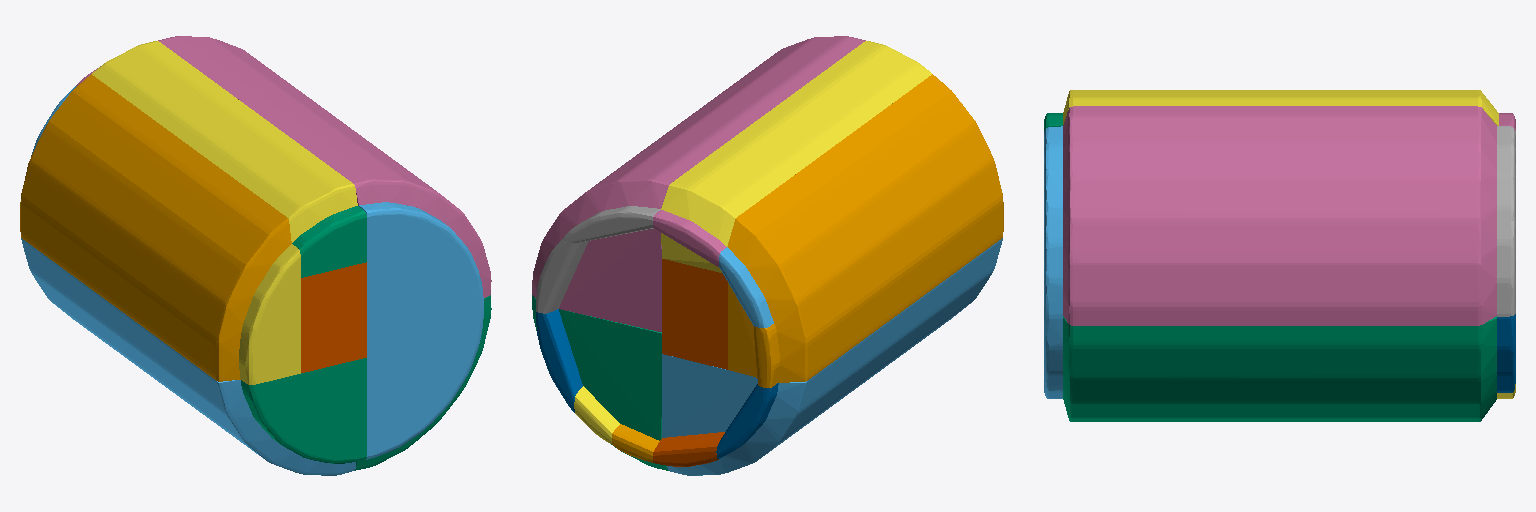
The robot description file, URDF, robot "root":
<robot name="root">
  <link name="link_convex_piece_018.obj">
    <inertial>
      <origin xyz="0 0 0" rpy="0 0 0"/>
    </inertial>
    <visual>
      <origin xyz="0 0 0" rpy="0 0 0"/>
      <geometry>
        <mesh filename="meshes/convex_piece_018.obj" scale="1.0 1.0 1.0"/>
      </geometry>
    </visual>
    <collision>
      <origin xyz="0 0 0" rpy="0 0 0"/>
      <geometry>
        <mesh filename="meshes/convex_piece_018.obj" scale="1.0 1.0 1.0"/>
      </geometry>
    </collision>
  </link>
  <link name="link_convex_piece_012.obj">
    <inertial>
      <origin xyz="0 0 0" rpy="0 0 0"/>
    </inertial>
    <visual>
      <origin xyz="0 0 0" rpy="0 0 0"/>
      <geometry>
        <mesh filename="meshes/convex_piece_012.obj" scale="1.0 1.0 1.0"/>
      </geometry>
    </visual>
    <collision>
      <origin xyz="0 0 0" rpy="0 0 0"/>
      <geometry>
        <mesh filename="meshes/convex_piece_012.obj" scale="1.0 1.0 1.0"/>
      </geometry>
    </collision>
  </link>
  <joint name="link_convex_piece_012.obj_joint" type="fixed">
    <origin xyz="0 0 0" rpy="0 0 0"/>
    <parent link="link_convex_piece_018.obj"/>
    <child link="link_convex_piece_012.obj"/>
  </joint>
  <link name="link_convex_piece_019.obj">
    <inertial>
      <origin xyz="0 0 0" rpy="0 0 0"/>
    </inertial>
    <visual>
      <origin xyz="0 0 0" rpy="0 0 0"/>
      <geometry>
        <mesh filename="meshes/convex_piece_019.obj" scale="1.0 1.0 1.0"/>
      </geometry>
    </visual>
    <collision>
      <origin xyz="0 0 0" rpy="0 0 0"/>
      <geometry>
        <mesh filename="meshes/convex_piece_019.obj" scale="1.0 1.0 1.0"/>
      </geometry>
    </collision>
  </link>
  <joint name="link_convex_piece_019.obj_joint" type="fixed">
    <origin xyz="0 0 0" rpy="0 0 0"/>
    <parent link="link_convex_piece_012.obj"/>
    <child link="link_convex_piece_019.obj"/>
  </joint>
  <link name="link_convex_piece_014.obj">
    <inertial>
      <origin xyz="0 0 0" rpy="0 0 0"/>
    </inertial>
    <visual>
      <origin xyz="0 0 0" rpy="0 0 0"/>
      <geometry>
        <mesh filename="meshes/convex_piece_014.obj" scale="1.0 1.0 1.0"/>
      </geometry>
    </visual>
    <collision>
      <origin xyz="0 0 0" rpy="0 0 0"/>
      <geometry>
        <mesh filename="meshes/convex_piece_014.obj" scale="1.0 1.0 1.0"/>
      </geometry>
    </collision>
  </link>
  <joint name="link_convex_piece_014.obj_joint" type="fixed">
    <origin xyz="0 0 0" rpy="0 0 0"/>
    <parent link="link_convex_piece_019.obj"/>
    <child link="link_convex_piece_014.obj"/>
  </joint>
  <link name="link_convex_piece_004.obj">
    <inertial>
      <origin xyz="0 0 0" rpy="0 0 0"/>
    </inertial>
    <visual>
      <origin xyz="0 0 0" rpy="0 0 0"/>
      <geometry>
        <mesh filename="meshes/convex_piece_004.obj" scale="1.0 1.0 1.0"/>
      </geometry>
    </visual>
    <collision>
      <origin xyz="0 0 0" rpy="0 0 0"/>
      <geometry>
        <mesh filename="meshes/convex_piece_004.obj" scale="1.0 1.0 1.0"/>
      </geometry>
    </collision>
  </link>
  <joint name="link_convex_piece_004.obj_joint" type="fixed">
    <origin xyz="0 0 0" rpy="0 0 0"/>
    <parent link="link_convex_piece_014.obj"/>
    <child link="link_convex_piece_004.obj"/>
  </joint>
  <link name="link_convex_piece_001.obj">
    <inertial>
      <origin xyz="0 0 0" rpy="0 0 0"/>
    </inertial>
    <visual>
      <origin xyz="0 0 0" rpy="0 0 0"/>
      <geometry>
        <mesh filename="meshes/convex_piece_001.obj" scale="1.0 1.0 1.0"/>
      </geometry>
    </visual>
    <collision>
      <origin xyz="0 0 0" rpy="0 0 0"/>
      <geometry>
        <mesh filename="meshes/convex_piece_001.obj" scale="1.0 1.0 1.0"/>
      </geometry>
    </collision>
  </link>
  <joint name="link_convex_piece_001.obj_joint" type="fixed">
    <origin xyz="0 0 0" rpy="0 0 0"/>
    <parent link="link_convex_piece_004.obj"/>
    <child link="link_convex_piece_001.obj"/>
  </joint>
  <link name="link_convex_piece_015.obj">
    <inertial>
      <origin xyz="0 0 0" rpy="0 0 0"/>
    </inertial>
    <visual>
      <origin xyz="0 0 0" rpy="0 0 0"/>
      <geometry>
        <mesh filename="meshes/convex_piece_015.obj" scale="1.0 1.0 1.0"/>
      </geometry>
    </visual>
    <collision>
      <origin xyz="0 0 0" rpy="0 0 0"/>
      <geometry>
        <mesh filename="meshes/convex_piece_015.obj" scale="1.0 1.0 1.0"/>
      </geometry>
    </collision>
  </link>
  <joint name="link_convex_piece_015.obj_joint" type="fixed">
    <origin xyz="0 0 0" rpy="0 0 0"/>
    <parent link="link_convex_piece_001.obj"/>
    <child link="link_convex_piece_015.obj"/>
  </joint>
  <link name="link_convex_piece_005.obj">
    <inertial>
      <origin xyz="0 0 0" rpy="0 0 0"/>
    </inertial>
    <visual>
      <origin xyz="0 0 0" rpy="0 0 0"/>
      <geometry>
        <mesh filename="meshes/convex_piece_005.obj" scale="1.0 1.0 1.0"/>
      </geometry>
    </visual>
    <collision>
      <origin xyz="0 0 0" rpy="0 0 0"/>
      <geometry>
        <mesh filename="meshes/convex_piece_005.obj" scale="1.0 1.0 1.0"/>
      </geometry>
    </collision>
  </link>
  <joint name="link_convex_piece_005.obj_joint" type="fixed">
    <origin xyz="0 0 0" rpy="0 0 0"/>
    <parent link="link_convex_piece_015.obj"/>
    <child link="link_convex_piece_005.obj"/>
  </joint>
  <link name="link_convex_piece_013.obj">
    <inertial>
      <origin xyz="0 0 0" rpy="0 0 0"/>
    </inertial>
    <visual>
      <origin xyz="0 0 0" rpy="0 0 0"/>
      <geometry>
        <mesh filename="meshes/convex_piece_013.obj" scale="1.0 1.0 1.0"/>
      </geometry>
    </visual>
    <collision>
      <origin xyz="0 0 0" rpy="0 0 0"/>
      <geometry>
        <mesh filename="meshes/convex_piece_013.obj" scale="1.0 1.0 1.0"/>
      </geometry>
    </collision>
  </link>
  <joint name="link_convex_piece_013.obj_joint" type="fixed">
    <origin xyz="0 0 0" rpy="0 0 0"/>
    <parent link="link_convex_piece_005.obj"/>
    <child link="link_convex_piece_013.obj"/>
  </joint>
  <link name="link_convex_piece_002.obj">
    <inertial>
      <origin xyz="0 0 0" rpy="0 0 0"/>
    </inertial>
    <visual>
      <origin xyz="0 0 0" rpy="0 0 0"/>
      <geometry>
        <mesh filename="meshes/convex_piece_002.obj" scale="1.0 1.0 1.0"/>
      </geometry>
    </visual>
    <collision>
      <origin xyz="0 0 0" rpy="0 0 0"/>
      <geometry>
        <mesh filename="meshes/convex_piece_002.obj" scale="1.0 1.0 1.0"/>
      </geometry>
    </collision>
  </link>
  <joint name="link_convex_piece_002.obj_joint" type="fixed">
    <origin xyz="0 0 0" rpy="0 0 0"/>
    <parent link="link_convex_piece_013.obj"/>
    <child link="link_convex_piece_002.obj"/>
  </joint>
  <link name="link_convex_piece_010.obj">
    <inertial>
      <origin xyz="0 0 0" rpy="0 0 0"/>
    </inertial>
    <visual>
      <origin xyz="0 0 0" rpy="0 0 0"/>
      <geometry>
        <mesh filename="meshes/convex_piece_010.obj" scale="1.0 1.0 1.0"/>
      </geometry>
    </visual>
    <collision>
      <origin xyz="0 0 0" rpy="0 0 0"/>
      <geometry>
        <mesh filename="meshes/convex_piece_010.obj" scale="1.0 1.0 1.0"/>
      </geometry>
    </collision>
  </link>
  <joint name="link_convex_piece_010.obj_joint" type="fixed">
    <origin xyz="0 0 0" rpy="0 0 0"/>
    <parent link="link_convex_piece_002.obj"/>
    <child link="link_convex_piece_010.obj"/>
  </joint>
  <link name="link_convex_piece_006.obj">
    <inertial>
      <origin xyz="0 0 0" rpy="0 0 0"/>
    </inertial>
    <visual>
      <origin xyz="0 0 0" rpy="0 0 0"/>
      <geometry>
        <mesh filename="meshes/convex_piece_006.obj" scale="1.0 1.0 1.0"/>
      </geometry>
    </visual>
    <collision>
      <origin xyz="0 0 0" rpy="0 0 0"/>
      <geometry>
        <mesh filename="meshes/convex_piece_006.obj" scale="1.0 1.0 1.0"/>
      </geometry>
    </collision>
  </link>
  <joint name="link_convex_piece_006.obj_joint" type="fixed">
    <origin xyz="0 0 0" rpy="0 0 0"/>
    <parent link="link_convex_piece_010.obj"/>
    <child link="link_convex_piece_006.obj"/>
  </joint>
  <link name="link_convex_piece_003.obj">
    <inertial>
      <origin xyz="0 0 0" rpy="0 0 0"/>
    </inertial>
    <visual>
      <origin xyz="0 0 0" rpy="0 0 0"/>
      <geometry>
        <mesh filename="meshes/convex_piece_003.obj" scale="1.0 1.0 1.0"/>
      </geometry>
    </visual>
    <collision>
      <origin xyz="0 0 0" rpy="0 0 0"/>
      <geometry>
        <mesh filename="meshes/convex_piece_003.obj" scale="1.0 1.0 1.0"/>
      </geometry>
    </collision>
  </link>
  <joint name="link_convex_piece_003.obj_joint" type="fixed">
    <origin xyz="0 0 0" rpy="0 0 0"/>
    <parent link="link_convex_piece_006.obj"/>
    <child link="link_convex_piece_003.obj"/>
  </joint>
  <link name="link_convex_piece_008.obj">
    <inertial>
      <origin xyz="0 0 0" rpy="0 0 0"/>
    </inertial>
    <visual>
      <origin xyz="0 0 0" rpy="0 0 0"/>
      <geometry>
        <mesh filename="meshes/convex_piece_008.obj" scale="1.0 1.0 1.0"/>
      </geometry>
    </visual>
    <collision>
      <origin xyz="0 0 0" rpy="0 0 0"/>
      <geometry>
        <mesh filename="meshes/convex_piece_008.obj" scale="1.0 1.0 1.0"/>
      </geometry>
    </collision>
  </link>
  <joint name="link_convex_piece_008.obj_joint" type="fixed">
    <origin xyz="0 0 0" rpy="0 0 0"/>
    <parent link="link_convex_piece_003.obj"/>
    <child link="link_convex_piece_008.obj"/>
  </joint>
  <link name="link_convex_piece_011.obj">
    <inertial>
      <origin xyz="0 0 0" rpy="0 0 0"/>
    </inertial>
    <visual>
      <origin xyz="0 0 0" rpy="0 0 0"/>
      <geometry>
        <mesh filename="meshes/convex_piece_011.obj" scale="1.0 1.0 1.0"/>
      </geometry>
    </visual>
    <collision>
      <origin xyz="0 0 0" rpy="0 0 0"/>
      <geometry>
        <mesh filename="meshes/convex_piece_011.obj" scale="1.0 1.0 1.0"/>
      </geometry>
    </collision>
  </link>
  <joint name="link_convex_piece_011.obj_joint" type="fixed">
    <origin xyz="0 0 0" rpy="0 0 0"/>
    <parent link="link_convex_piece_008.obj"/>
    <child link="link_convex_piece_011.obj"/>
  </joint>
  <link name="link_convex_piece_000.obj">
    <inertial>
      <origin xyz="0 0 0" rpy="0 0 0"/>
    </inertial>
    <visual>
      <origin xyz="0 0 0" rpy="0 0 0"/>
      <geometry>
        <mesh filename="meshes/convex_piece_000.obj" scale="1.0 1.0 1.0"/>
      </geometry>
    </visual>
    <collision>
      <origin xyz="0 0 0" rpy="0 0 0"/>
      <geometry>
        <mesh filename="meshes/convex_piece_000.obj" scale="1.0 1.0 1.0"/>
      </geometry>
    </collision>
  </link>
  <joint name="link_convex_piece_000.obj_joint" type="fixed">
    <origin xyz="0 0 0" rpy="0 0 0"/>
    <parent link="link_convex_piece_011.obj"/>
    <child link="link_convex_piece_000.obj"/>
  </joint>
  <link name="link_convex_piece_016.obj">
    <inertial>
      <origin xyz="0 0 0" rpy="0 0 0"/>
    </inertial>
    <visual>
      <origin xyz="0 0 0" rpy="0 0 0"/>
      <geometry>
        <mesh filename="meshes/convex_piece_016.obj" scale="1.0 1.0 1.0"/>
      </geometry>
    </visual>
    <collision>
      <origin xyz="0 0 0" rpy="0 0 0"/>
      <geometry>
        <mesh filename="meshes/convex_piece_016.obj" scale="1.0 1.0 1.0"/>
      </geometry>
    </collision>
  </link>
  <joint name="link_convex_piece_016.obj_joint" type="fixed">
    <origin xyz="0 0 0" rpy="0 0 0"/>
    <parent link="link_convex_piece_000.obj"/>
    <child link="link_convex_piece_016.obj"/>
  </joint>
  <link name="link_convex_piece_009.obj">
    <inertial>
      <origin xyz="0 0 0" rpy="0 0 0"/>
    </inertial>
    <visual>
      <origin xyz="0 0 0" rpy="0 0 0"/>
      <geometry>
        <mesh filename="meshes/convex_piece_009.obj" scale="1.0 1.0 1.0"/>
      </geometry>
    </visual>
    <collision>
      <origin xyz="0 0 0" rpy="0 0 0"/>
      <geometry>
        <mesh filename="meshes/convex_piece_009.obj" scale="1.0 1.0 1.0"/>
      </geometry>
    </collision>
  </link>
  <joint name="link_convex_piece_009.obj_joint" type="fixed">
    <origin xyz="0 0 0" rpy="0 0 0"/>
    <parent link="link_convex_piece_016.obj"/>
    <child link="link_convex_piece_009.obj"/>
  </joint>
  <link name="link_convex_piece_007.obj">
    <inertial>
      <origin xyz="0 0 0" rpy="0 0 0"/>
    </inertial>
    <visual>
      <origin xyz="0 0 0" rpy="0 0 0"/>
      <geometry>
        <mesh filename="meshes/convex_piece_007.obj" scale="1.0 1.0 1.0"/>
      </geometry>
    </visual>
    <collision>
      <origin xyz="0 0 0" rpy="0 0 0"/>
      <geometry>
        <mesh filename="meshes/convex_piece_007.obj" scale="1.0 1.0 1.0"/>
      </geometry>
    </collision>
  </link>
  <joint name="link_convex_piece_007.obj_joint" type="fixed">
    <origin xyz="0 0 0" rpy="0 0 0"/>
    <parent link="link_convex_piece_009.obj"/>
    <child link="link_convex_piece_007.obj"/>
  </joint>
  <link name="link_convex_piece_017.obj">
    <inertial>
      <origin xyz="0 0 0" rpy="0 0 0"/>
    </inertial>
    <visual>
      <origin xyz="0 0 0" rpy="0 0 0"/>
      <geometry>
        <mesh filename="meshes/convex_piece_017.obj" scale="1.0 1.0 1.0"/>
      </geometry>
    </visual>
    <collision>
      <origin xyz="0 0 0" rpy="0 0 0"/>
      <geometry>
        <mesh filename="meshes/convex_piece_017.obj" scale="1.0 1.0 1.0"/>
      </geometry>
    </collision>
  </link>
  <joint name="link_convex_piece_017.obj_joint" type="fixed">
    <origin xyz="0 0 0" rpy="0 0 0"/>
    <parent link="link_convex_piece_007.obj"/>
    <child link="link_convex_piece_017.obj"/>
  </joint>
</robot>

--- Render facts (derived) ---
3 views of the same robot in one strip: view 1: azimuth 30°, elevation 25°; view 2: azimuth 150°, elevation 25°; view 3: azimuth 270°, elevation 25° (orthographic).
Robot: root — 20 links, 19 joints (19 fixed); root link link_convex_piece_018.obj; default pose: all joints at 0.
Links seen in each view (by area): view 1: link_convex_piece_018.obj, link_convex_piece_002.obj, link_convex_piece_006.obj, link_convex_piece_011.obj, link_convex_piece_009.obj, link_convex_piece_007.obj, link_convex_piece_017.obj, link_convex_piece_008.obj, link_convex_piece_019.obj, link_convex_piece_010.obj; view 2: link_convex_piece_018.obj, link_convex_piece_011.obj, link_convex_piece_006.obj, link_convex_piece_009.obj, link_convex_piece_010.obj, link_convex_piece_008.obj, link_convex_piece_003.obj, link_convex_piece_000.obj, link_convex_piece_005.obj, link_convex_piece_004.obj, link_convex_piece_012.obj, link_convex_piece_001.obj (+4 smaller); view 3: link_convex_piece_011.obj, link_convex_piece_010.obj, link_convex_piece_006.obj, link_convex_piece_002.obj, link_convex_piece_000.obj, link_convex_piece_005.obj, link_convex_piece_003.obj.
Boxes of the visible links, box(x1,y1,x2,y2) form: link_convex_piece_018.obj: box(20, 74, 291, 381); link_convex_piece_002.obj: box(359, 202, 483, 459); link_convex_piece_006.obj: box(92, 41, 357, 242); link_convex_piece_011.obj: box(158, 36, 491, 297); link_convex_piece_009.obj: box(21, 238, 355, 475); link_convex_piece_007.obj: box(241, 358, 366, 463); link_convex_piece_017.obj: box(239, 244, 300, 384); link_convex_piece_008.obj: box(301, 262, 366, 372); link_convex_piece_019.obj: box(292, 206, 366, 277); link_convex_piece_010.obj: box(355, 295, 491, 470); link_convex_piece_018.obj: box(728, 74, 1003, 382); link_convex_piece_011.obj: box(532, 36, 865, 331); link_convex_piece_006.obj: box(661, 41, 931, 272); link_convex_piece_009.obj: box(662, 238, 1002, 475); link_convex_piece_010.obj: box(532, 295, 668, 470); link_convex_piece_008.obj: box(662, 259, 727, 369); link_convex_piece_003.obj: box(536, 309, 582, 412); link_convex_piece_000.obj: box(536, 239, 588, 313); link_convex_piece_005.obj: box(563, 206, 660, 242); link_convex_piece_004.obj: box(716, 383, 778, 458); link_convex_piece_012.obj: box(719, 247, 773, 327); link_convex_piece_001.obj: box(653, 432, 724, 466); link_convex_piece_011.obj: box(1063, 106, 1496, 325); link_convex_piece_010.obj: box(1063, 316, 1496, 421); link_convex_piece_006.obj: box(1063, 90, 1498, 125); link_convex_piece_002.obj: box(1044, 126, 1062, 398); link_convex_piece_000.obj: box(1497, 217, 1515, 316); link_convex_piece_005.obj: box(1497, 126, 1515, 220); link_convex_piece_003.obj: box(1497, 314, 1515, 392).
Bounding box of the posed robot: 1.01 × 1.44 × 1.01 m (x, y, z).
20 mesh visuals loaded from 20 distinct referenced files (20 OBJ).
